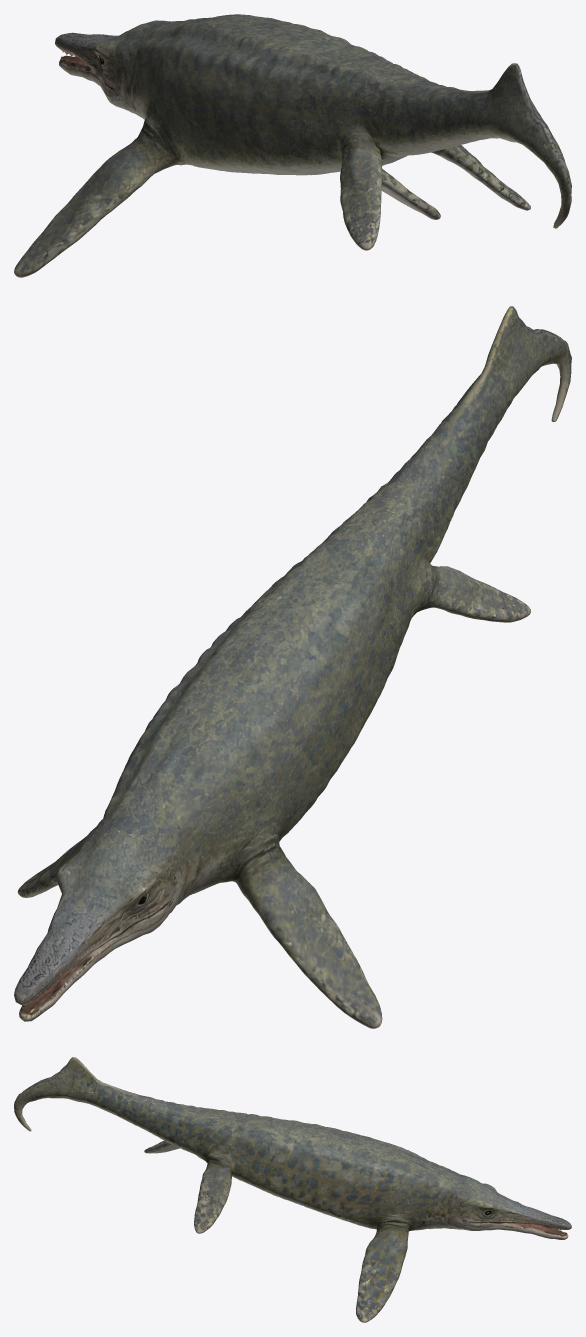
Rendered from cymbospondylus.preview.glb.
The picture shows the model from 3 angles, top to bottom: view 1: azimuth 30°, elevation 25°; view 2: azimuth 150°, elevation 25°; view 3: azimuth 270°, elevation 25°; orthographic projection. The views are drawn at different scales.
Visible parts, largest first — view 1: tripo_node_655e68fc-e2d8-45d5-bc83-ad29b1cf40e0.001; view 2: tripo_node_655e68fc-e2d8-45d5-bc83-ad29b1cf40e0.001; view 3: tripo_node_655e68fc-e2d8-45d5-bc83-ad29b1cf40e0.001.
Part boxes in pixels (bbox=[...]): tripo_node_655e68fc-e2d8-45d5-bc83-ad29b1cf40e0.001: bbox=[14, 14, 571, 277]; tripo_node_655e68fc-e2d8-45d5-bc83-ad29b1cf40e0.001: bbox=[14, 306, 571, 1028]; tripo_node_655e68fc-e2d8-45d5-bc83-ad29b1cf40e0.001: bbox=[14, 1057, 571, 1322].
Bounding box in the file's own units: 0.4286 × 0.4269 × 1.
1 material, 1 textured.
